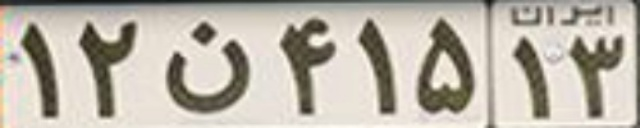1: (16, 19, 72, 117), (350, 16, 403, 115), (510, 34, 558, 118)
2: (78, 20, 140, 117)
3: (570, 31, 622, 119)
4: (278, 17, 331, 116)
5: (414, 18, 478, 114)
non: (159, 19, 254, 112)
